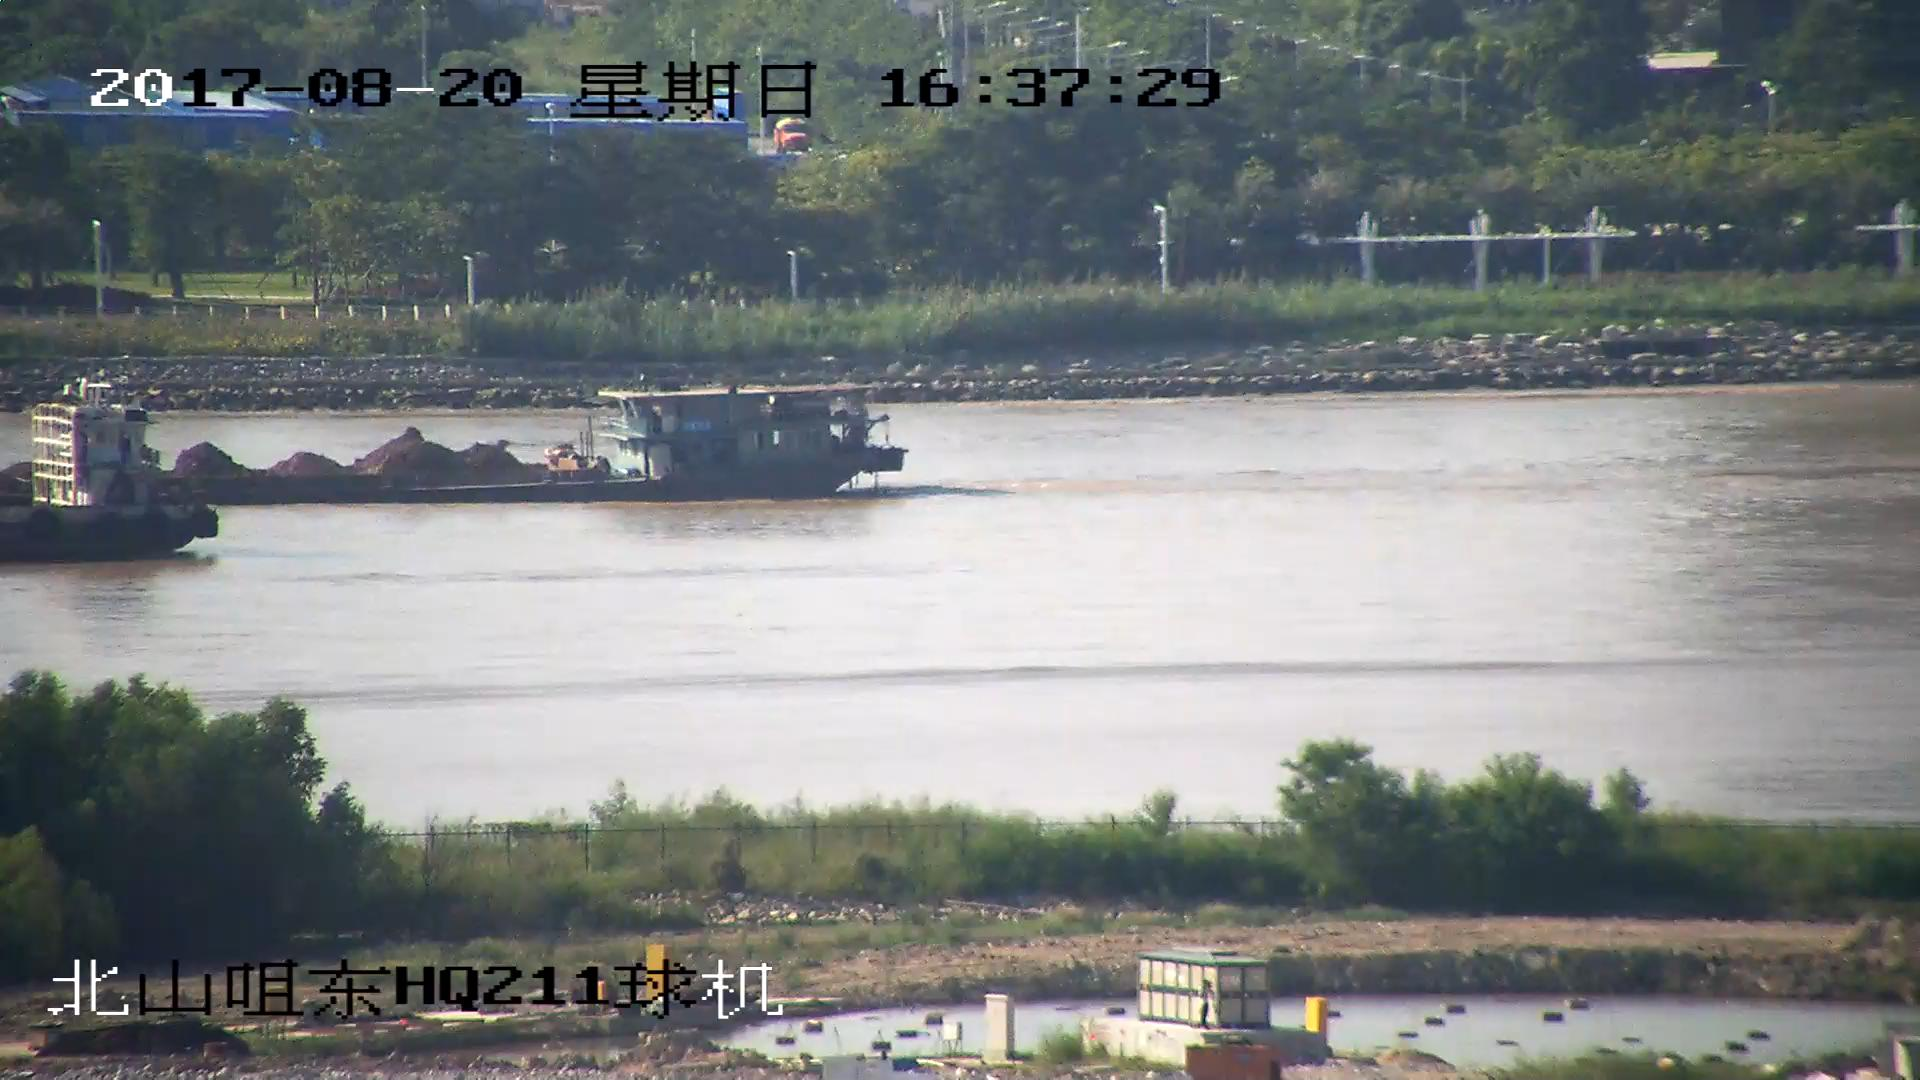general cargo ship: (1, 384, 216, 562)
ore carrier: (1, 379, 916, 503)
